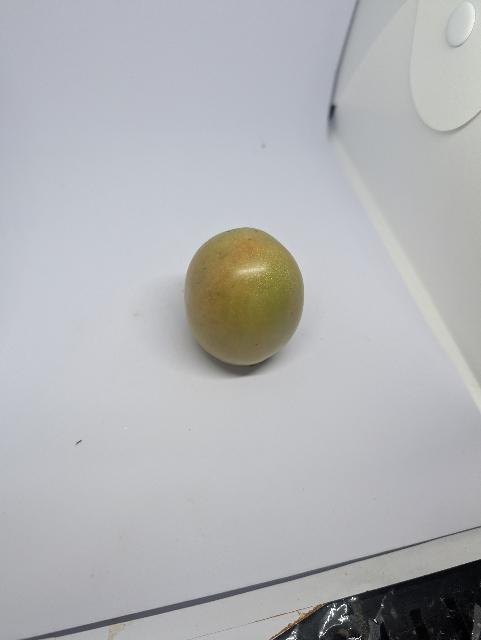breaker: (178, 224, 313, 371)
